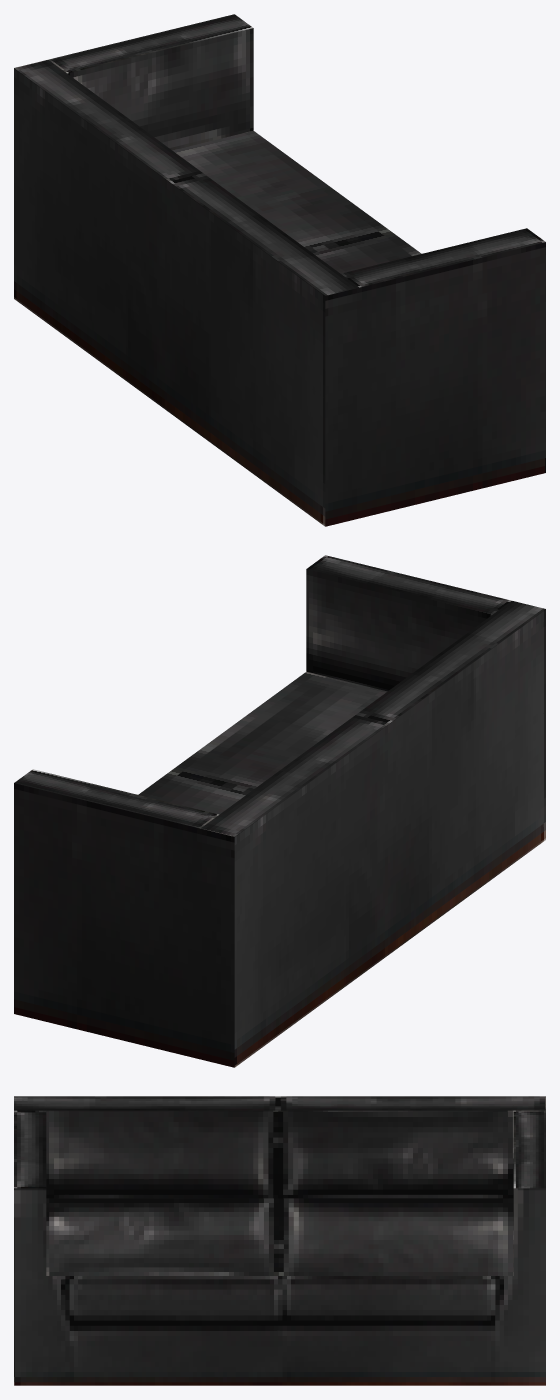
Rendered from updatedCouch.fbx.
The picture shows the model from 3 angles, top to bottom: view 1: azimuth 30°, elevation 25°; view 2: azimuth 150°, elevation 25°; view 3: azimuth 270°, elevation 25°; orthographic projection. The views are drawn at different scales.
Parts seen in each view (by area): view 1: couchLarge; view 2: couchLarge; view 3: couchLarge.
Boxes of the visible parts, bbox=[...] form: couchLarge: bbox=[14, 14, 545, 526]; couchLarge: bbox=[14, 555, 545, 1067]; couchLarge: bbox=[14, 1096, 545, 1385].
Size of the model in its own units: 90 by 90 by 220.
